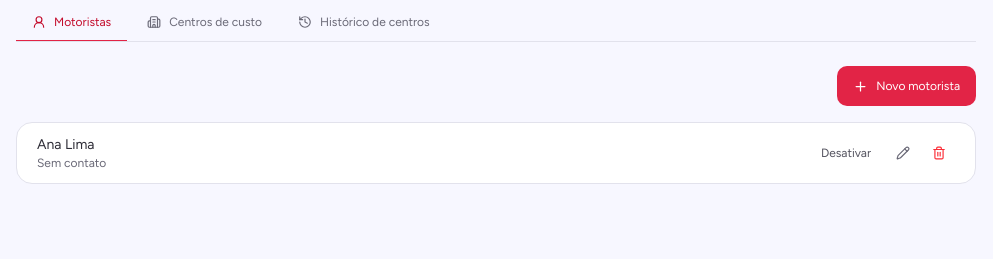
Scenario: Cadastros: erros de carga e de ação ficam separados › uma ação que falha mostra o erro e mantém a lista na tela
The width and height of the screenshot is (993, 259).
expect the text "Ana Lima" is shown: met, box [37,136,94,153]
Click the button "Desativar" at coordinates (846, 153), box [809,137,883,169]
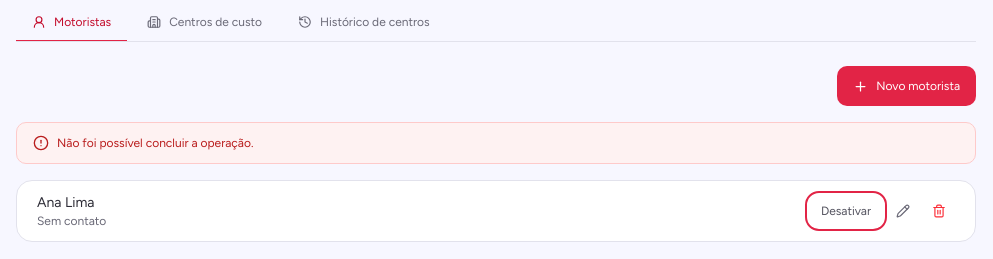
expect the text "Ana Lima" is shown: met, box [37,194,94,211]
expect the message "Não foi possível concluir a operação." is shown: met, box [16,122,976,164]
